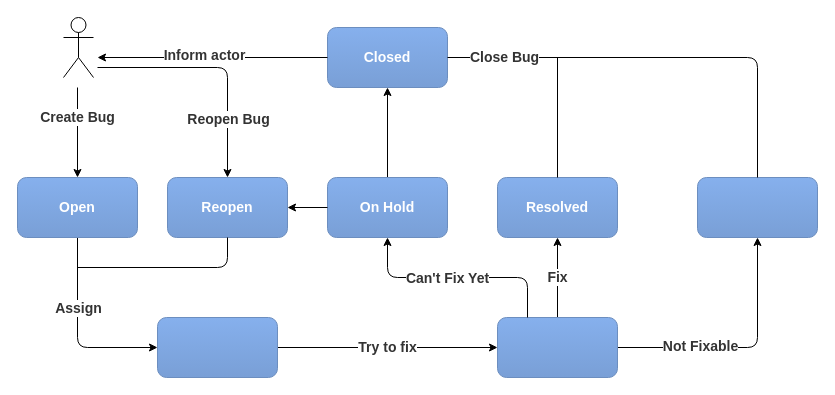
Some shapes in this 835 by 395 pixel diagram are drawn without their labels. Here are the shapes that lost their labels. From the top down, the centre of each, then its label:
(757,207): Won't Fix
(217,347): Pending
(557,347): In Progress
